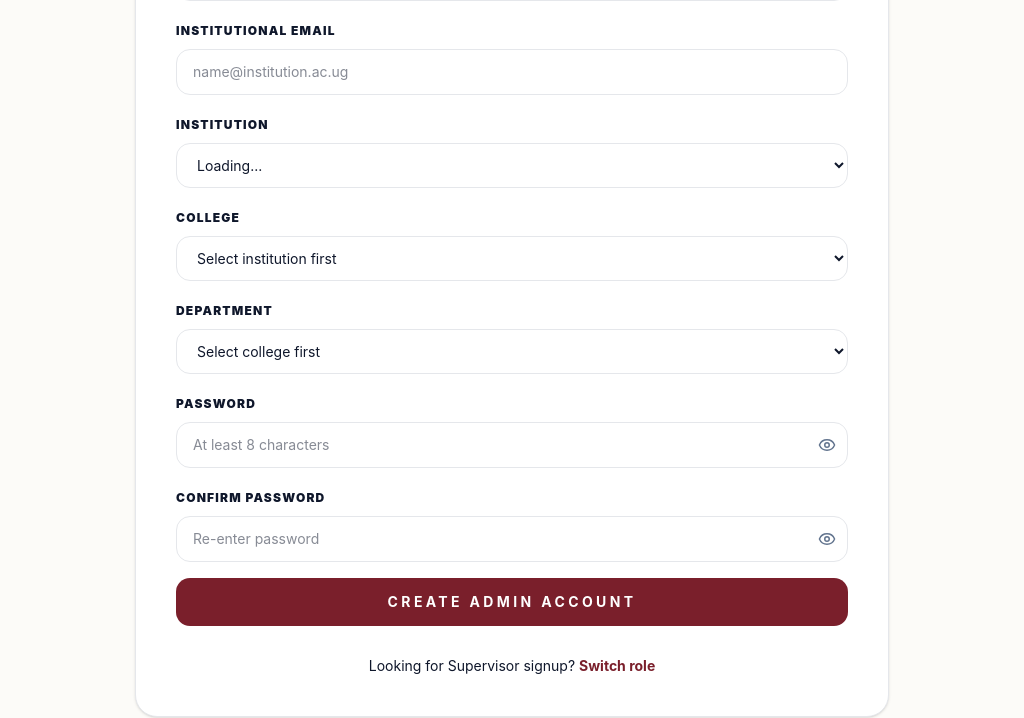
Test: renders form and shows validation errors
(page scrolled)
Click the button "Create Admin Account". click: (512, 602)
box: x1=176 y1=578 x2=848 y2=626
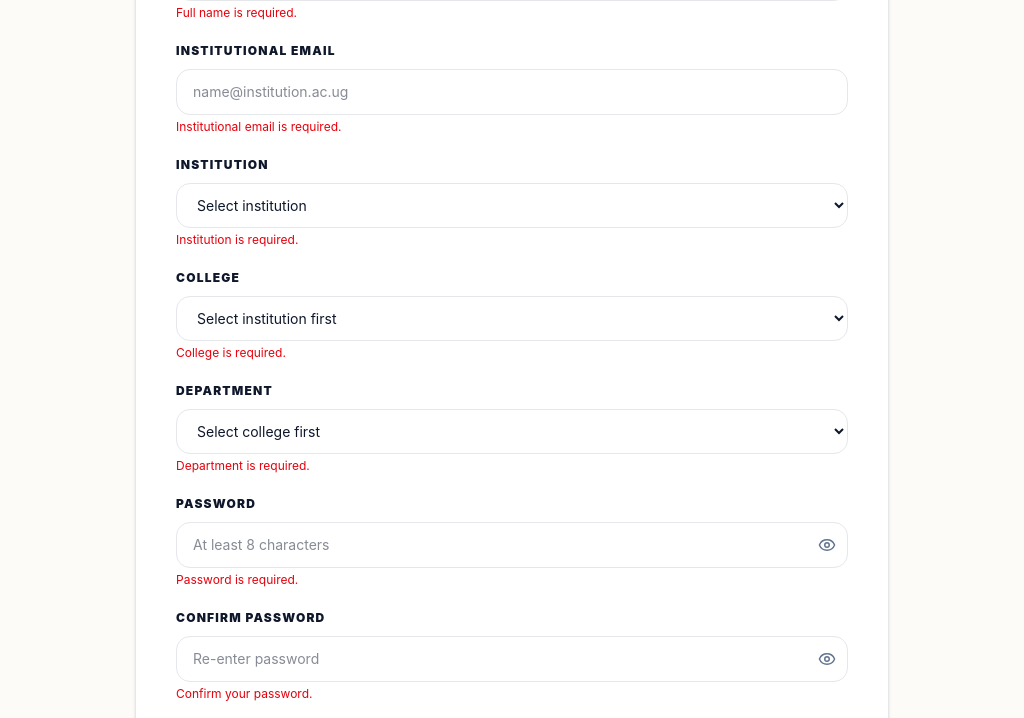
Result: the text "Full name is required." is shown at x1=176 y1=4 x2=297 y2=20
Result: the text "Institution is required." is shown at x1=176 y1=232 x2=298 y2=246
Result: the text "Department is required." is shown at x1=176 y1=458 x2=310 y2=472
